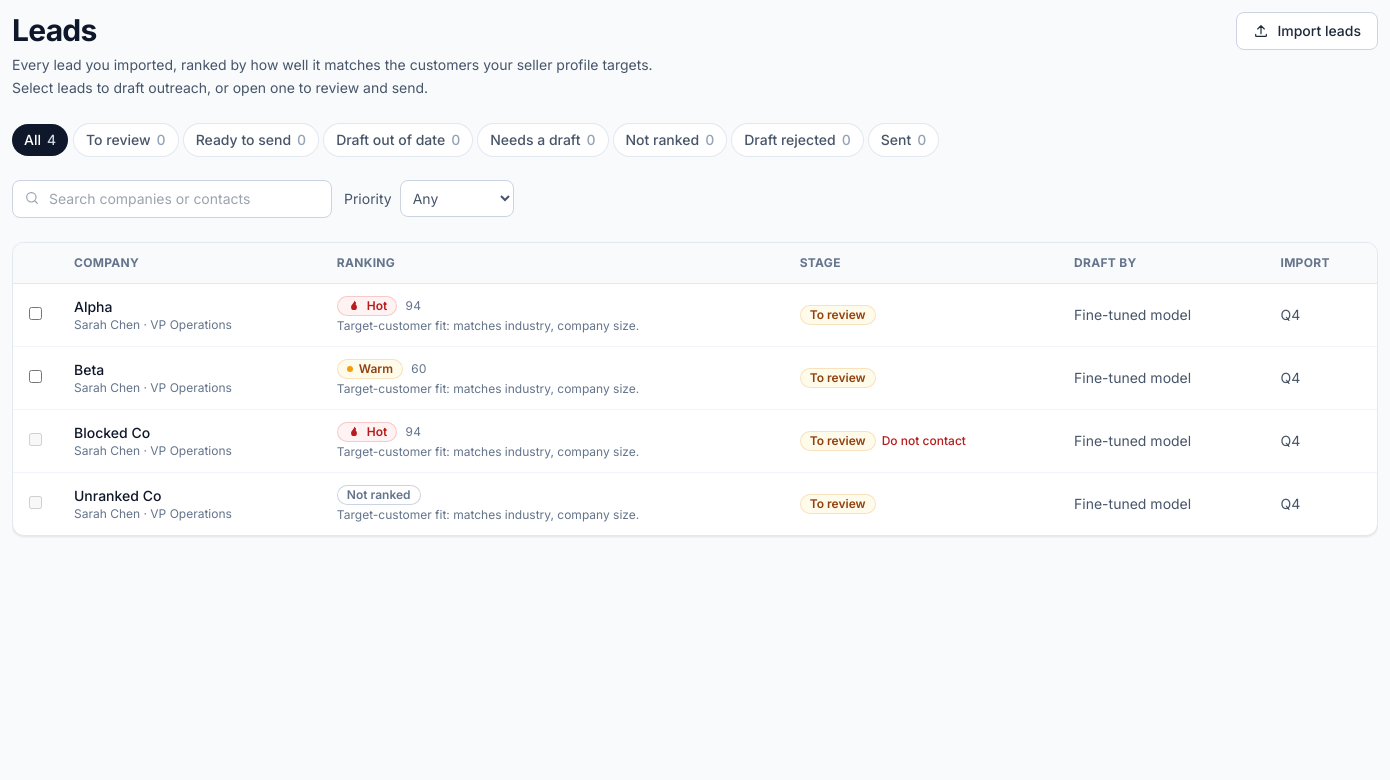
Leads › drafts selected ranked leads per import and never selects blocked or unranked leads
Check: the link "Alpha" is shown, box [74,298,112,314]
Check: the checkbox named "Select Blocked Co" is disabled, box [29,432,42,446]
Click the checkbox named "Select Alpha" at point(36, 313), box [29,306,42,320]
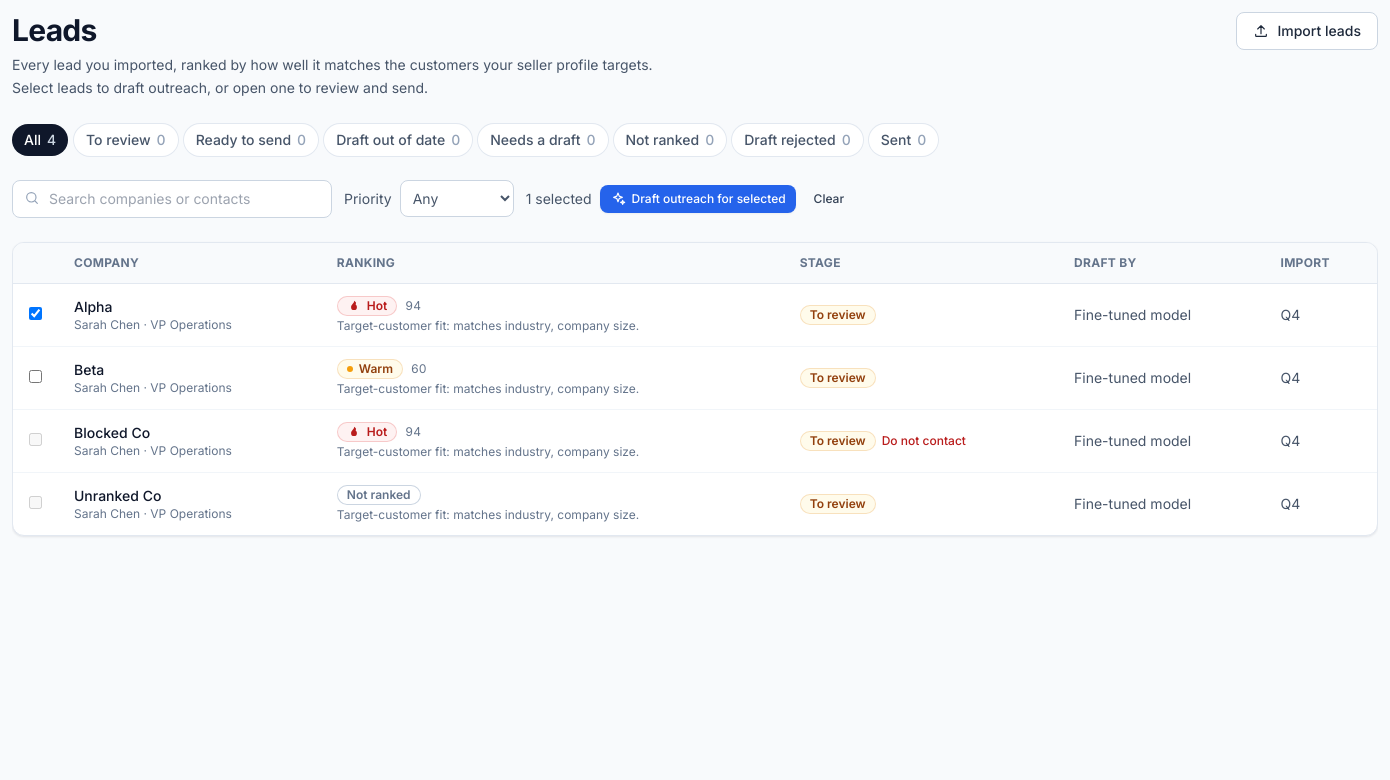
Click the checkbox named "Select Beta" at point(36, 376), box [29,370,42,382]
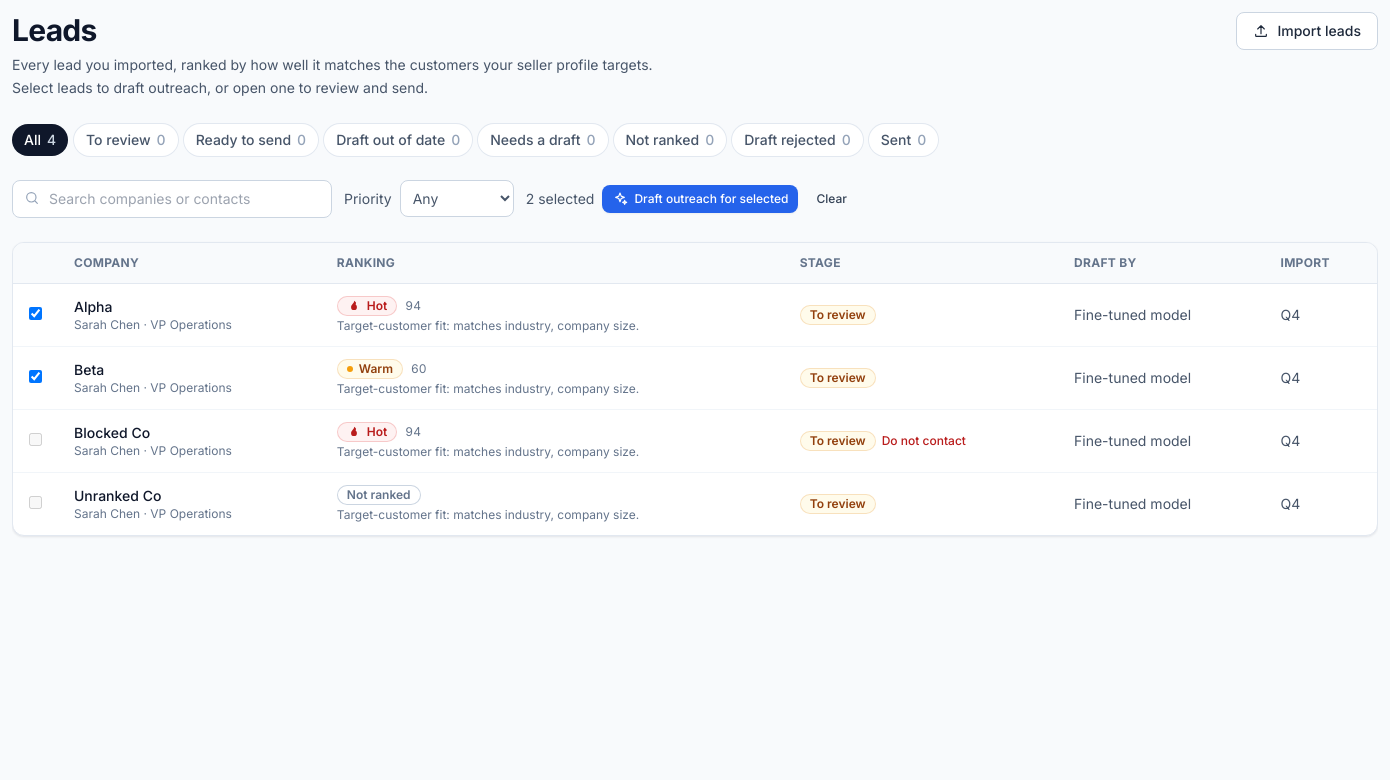
Check: the text "2 selected" is shown, box [526,188,594,208]
Click the button "Draft outreach for selected" at point(700, 198), box [602,184,798,212]
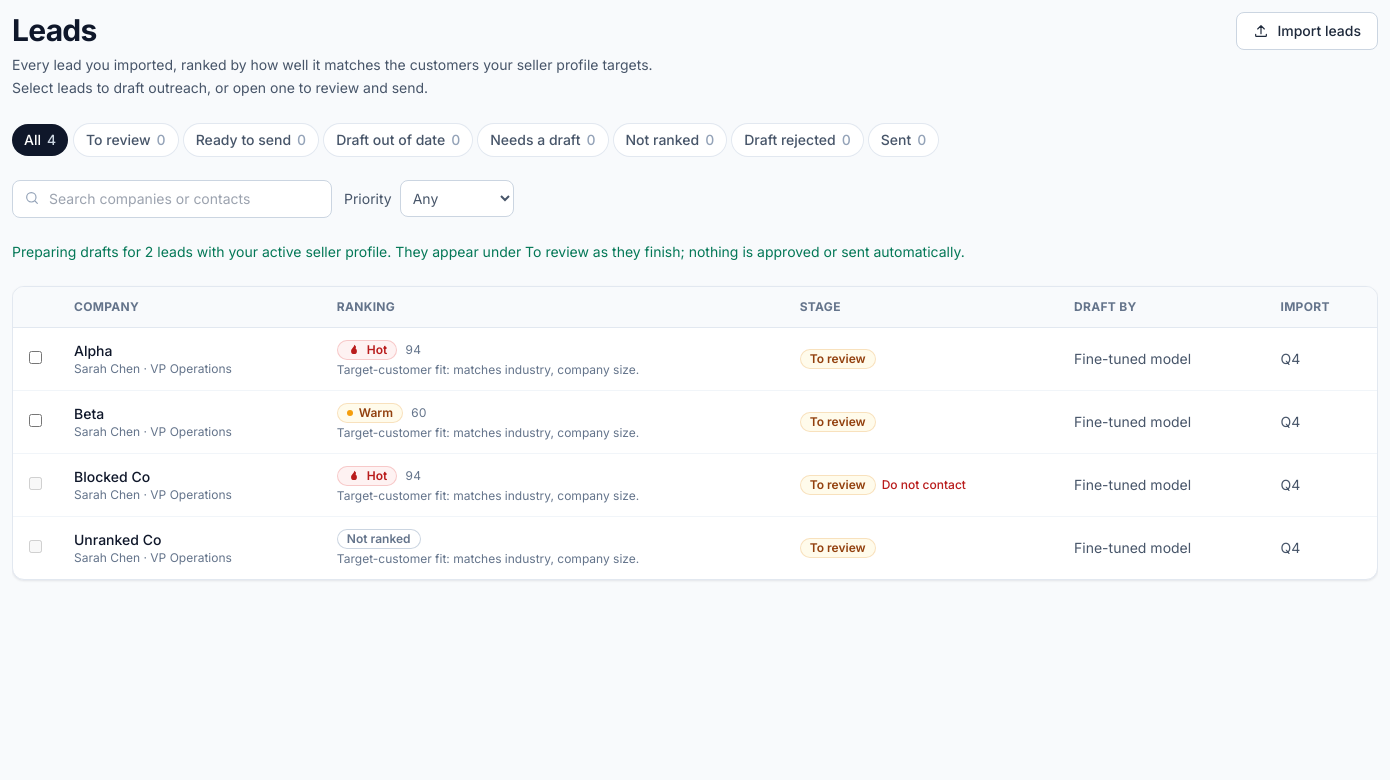
Check: the message shows "nothing is approved or sent automatically", box [12,242,965,260]
